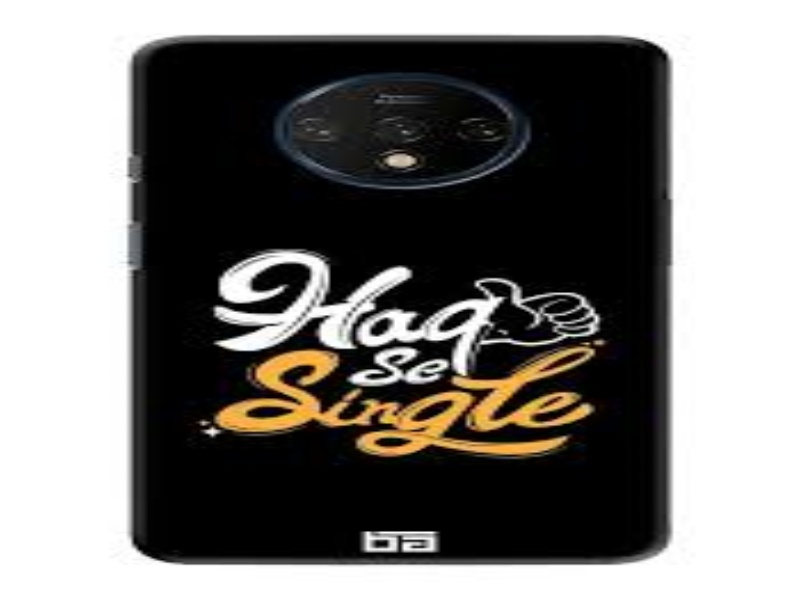mobile: (96, 16, 693, 591)
